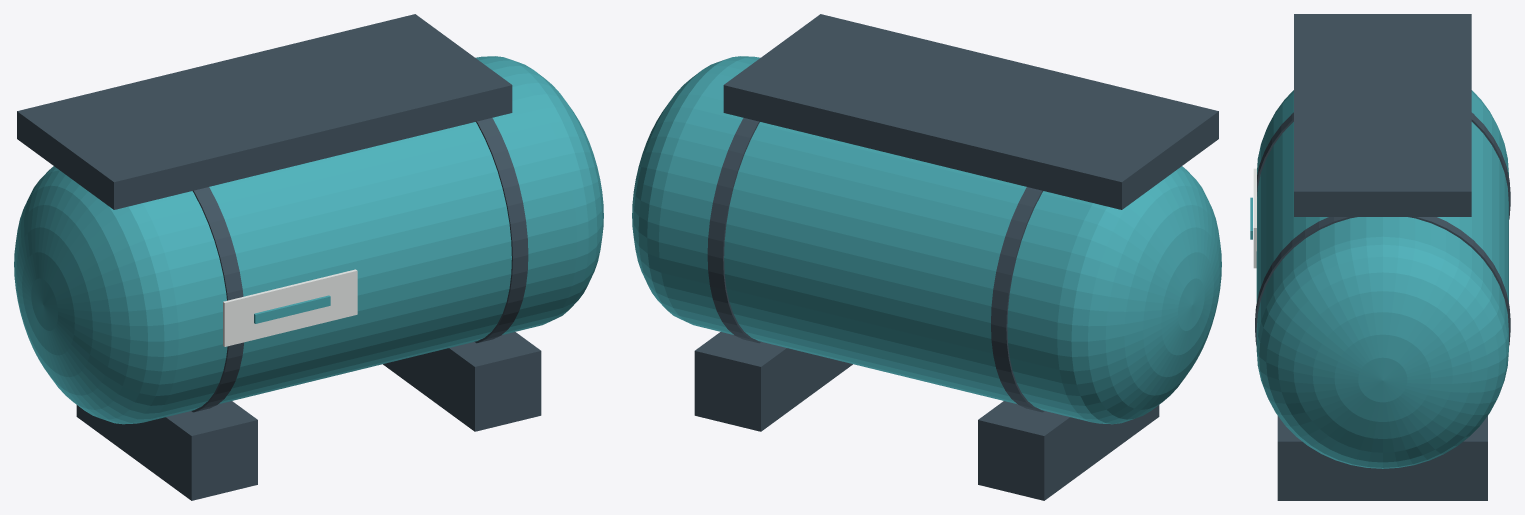
The model's file is tank.glb.
3 views of the same model, side by side, from view 1: azimuth 30°, elevation 25°; view 2: azimuth 150°, elevation 25°; view 3: azimuth 270°, elevation 25° (orthographic). The views are drawn at different scales.
Bounding box in the file's own units: 1.2 × 0.71 × 0.558.
